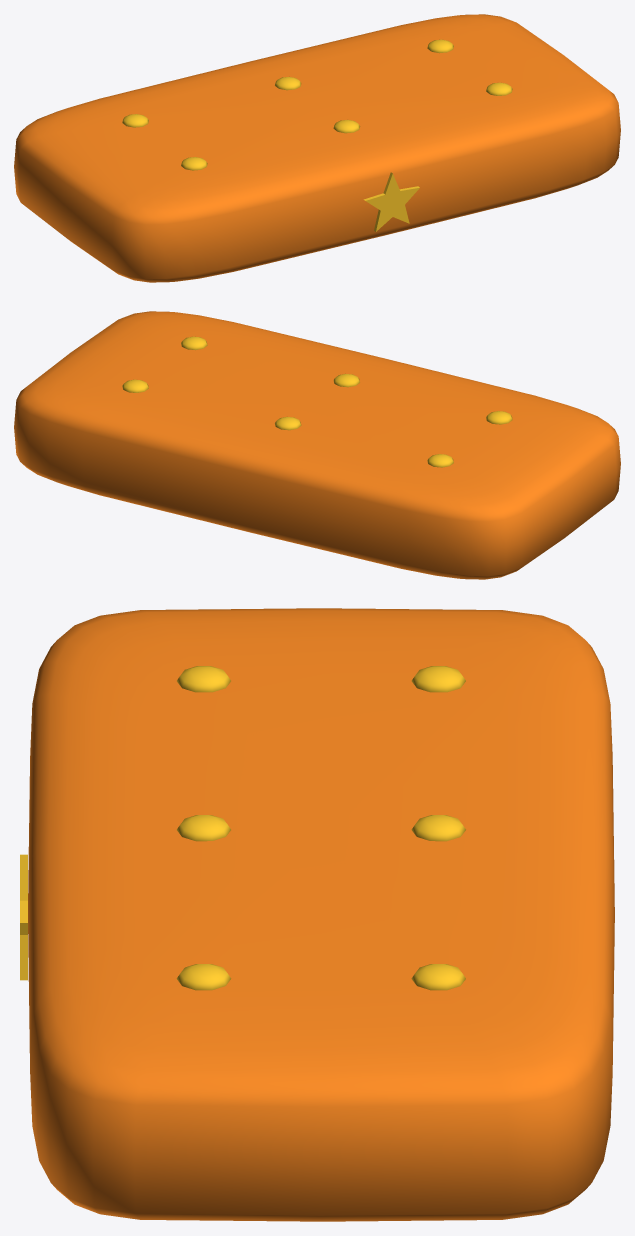
File: emergency_mattress.glb
The picture shows the model from 3 angles, top to bottom: view 1: azimuth 30°, elevation 25°; view 2: azimuth 150°, elevation 25°; view 3: azimuth 270°, elevation 25°; orthographic projection. The views are drawn at different scales.
Parts seen in each view (by area): view 1: Body; view 2: Body; view 3: Body.
Part boxes in pixels (x1=…): Body: x1=14, y1=14, x2=620, y2=282; Body: x1=14, y1=311, x2=620, y2=579; Body: x1=20, y1=608, x2=614, y2=1221.
Size of the model in its own units: 3 by 0.51 by 1.52.
